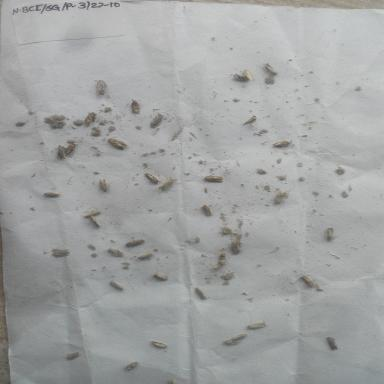pbw: (298, 273, 320, 289), (156, 178, 179, 192), (271, 189, 291, 205), (246, 318, 268, 332), (81, 110, 98, 128), (147, 113, 166, 129), (105, 138, 130, 150), (94, 78, 108, 97), (150, 270, 172, 282), (240, 114, 258, 128), (142, 172, 160, 186), (228, 238, 242, 256), (124, 237, 146, 248), (270, 138, 294, 148), (200, 173, 224, 183), (121, 360, 141, 372), (262, 62, 279, 76), (194, 286, 208, 302), (325, 336, 339, 352), (129, 99, 142, 116), (146, 340, 168, 350), (52, 144, 67, 158), (200, 203, 214, 218), (230, 72, 250, 82), (42, 189, 62, 199), (324, 226, 336, 242), (106, 247, 123, 258), (135, 252, 154, 261), (63, 350, 80, 360), (242, 68, 255, 81), (88, 214, 101, 227), (63, 144, 77, 156), (98, 178, 110, 192), (222, 338, 243, 346), (210, 260, 226, 270), (83, 210, 102, 218), (109, 280, 124, 290), (216, 252, 226, 267), (230, 332, 246, 341)
